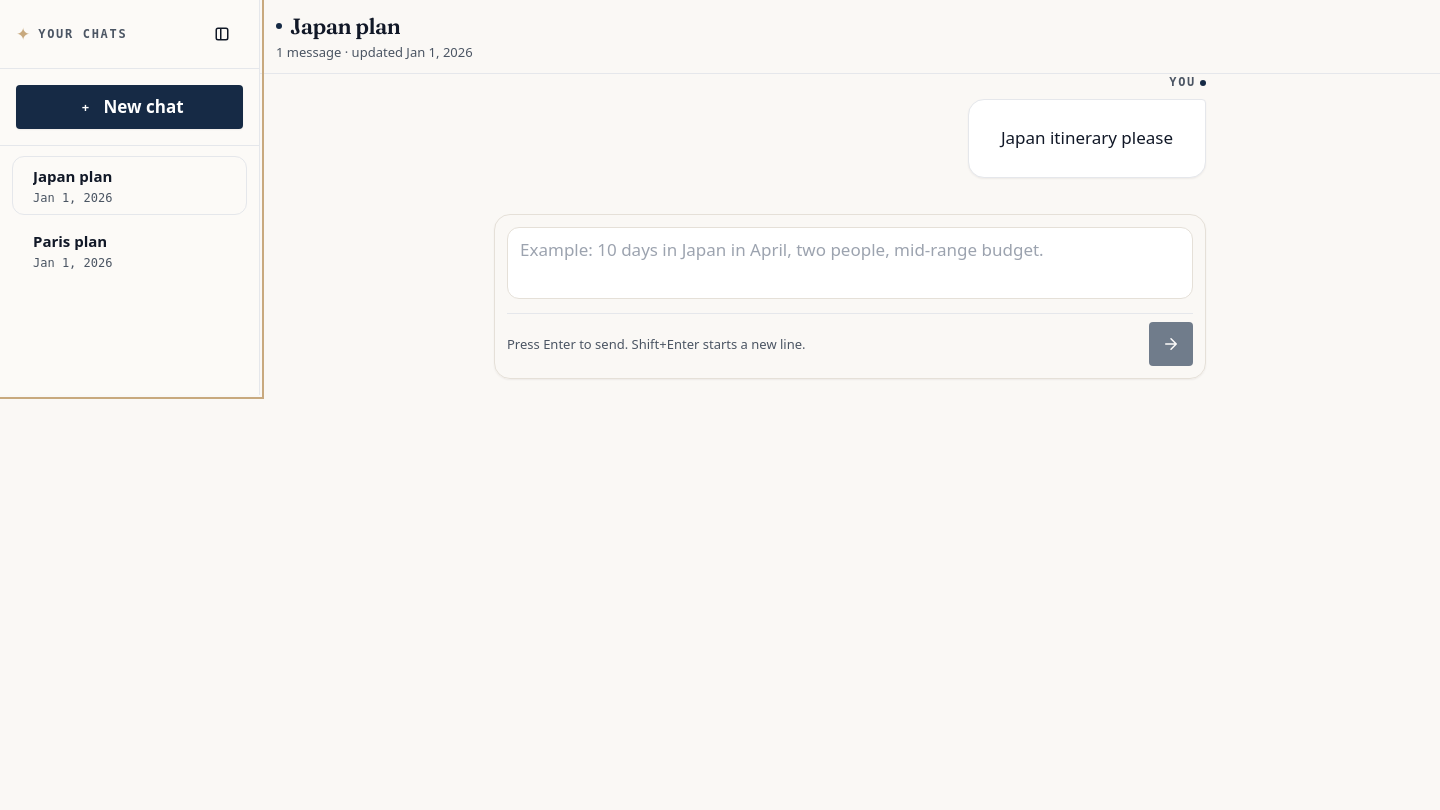
it: Chat waiting lounge responsiveness (QUAL-04, GAME-01) › places the game in a left rail beside the chat, never in the chat column
Expected: the text "Japan itinerary please" is shown, [1001,124,1173,153]
Replace the text in the text box named "Your trip request" with "10 days in Japan in April". click: (850, 263)
box: [507,227,1193,299]
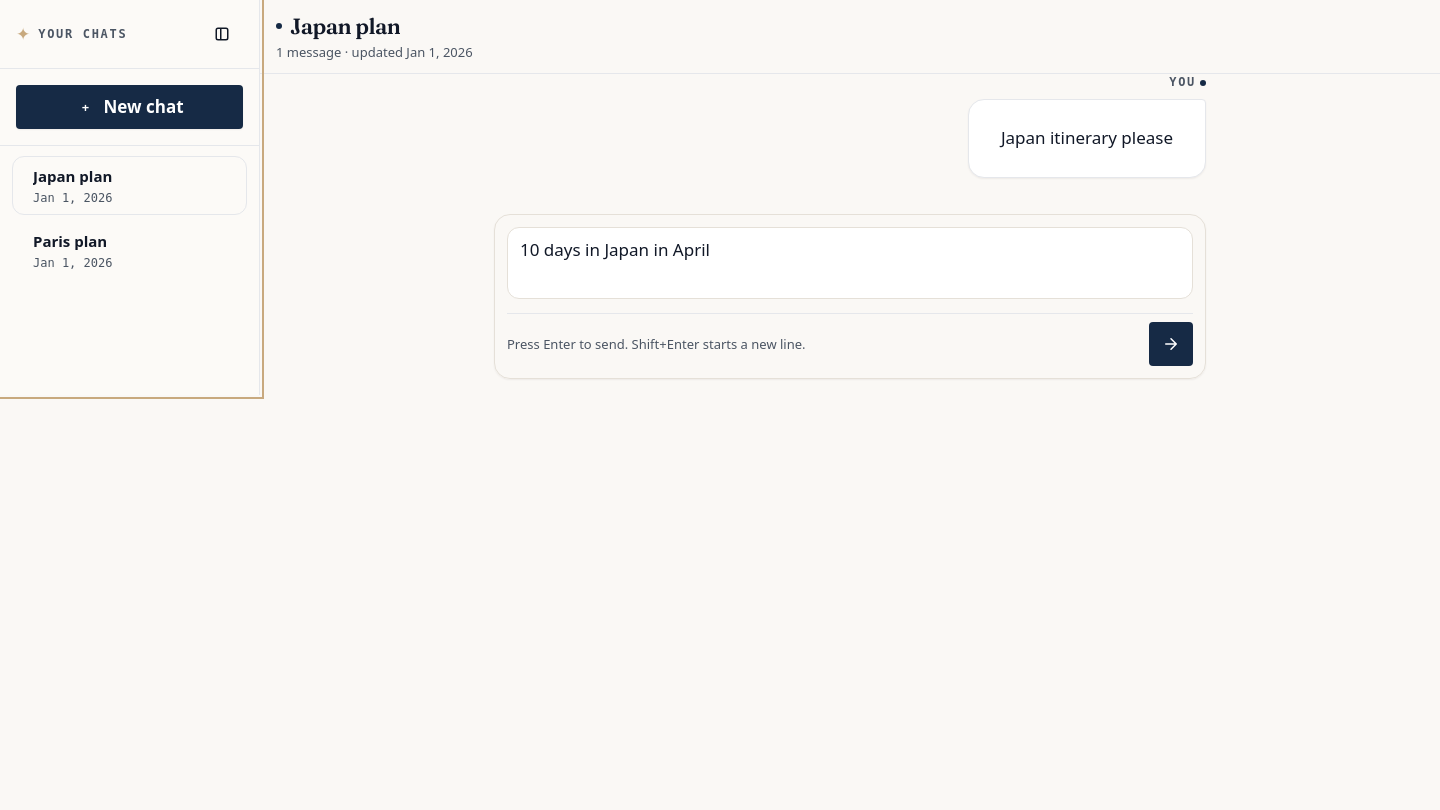
Press Enter in the text box named "Your trip request", box [507,227,1193,299]
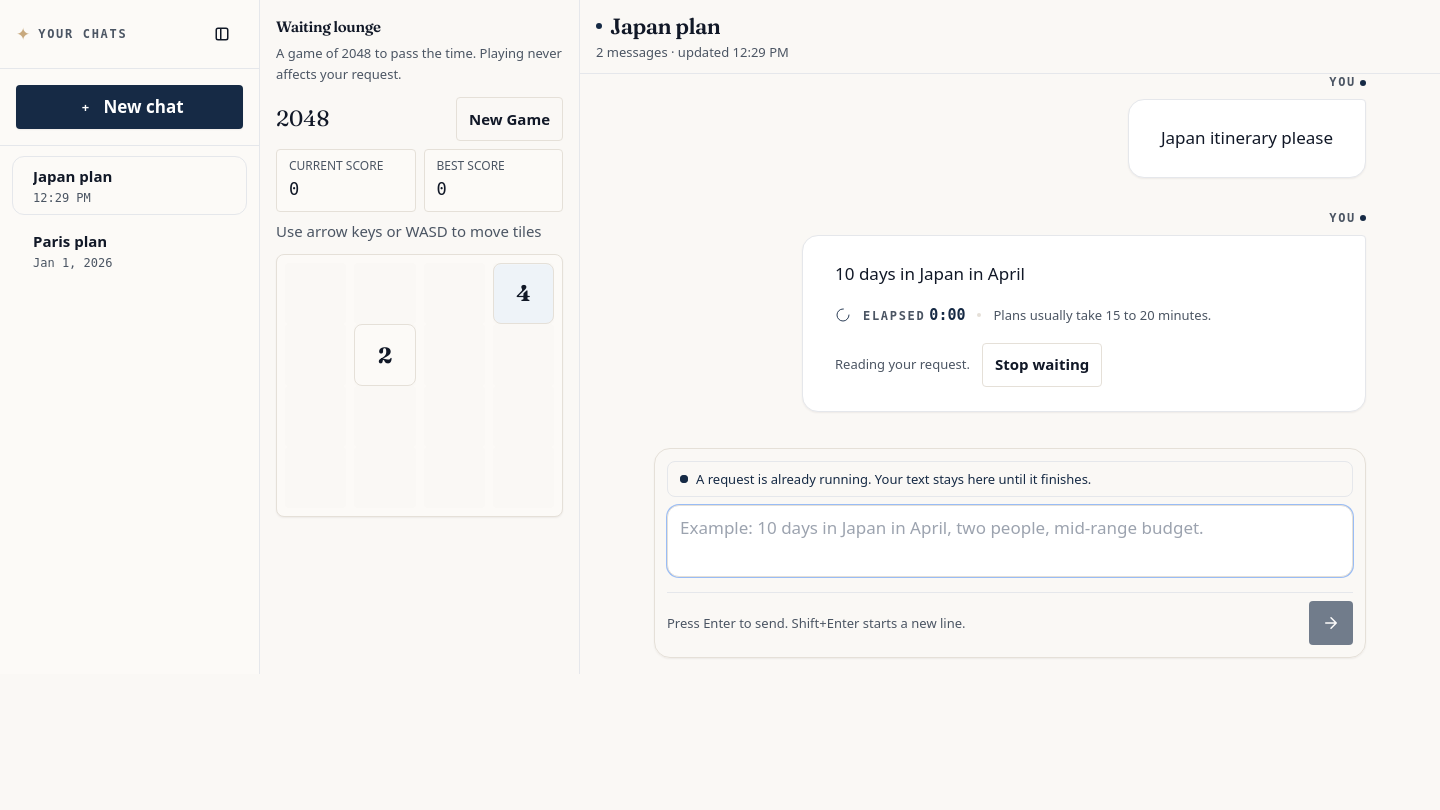
Now the element named "2048 game" is shown, box [276,97,563,517]
Now the text "Plans usually take 15 to 20 minutes." is shown, box [994,306,1211,325]
Now the button "Stop waiting" is shown, box [982,343,1102,387]
